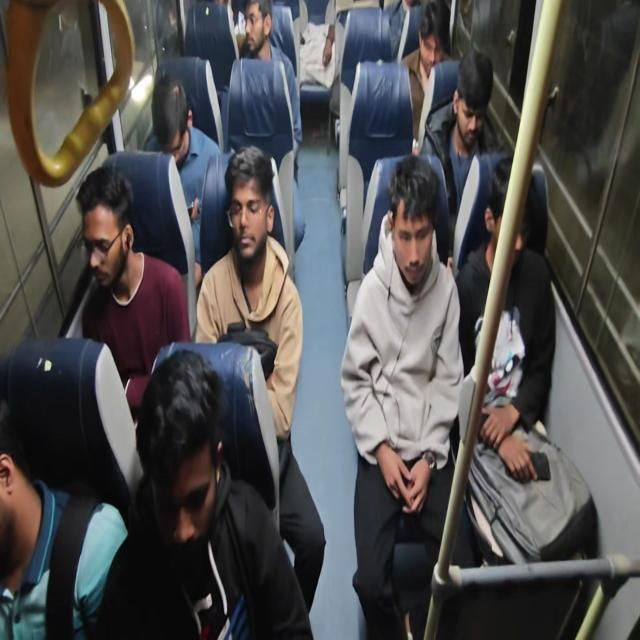person: (125, 361, 257, 640), (0, 367, 58, 630), (223, 150, 285, 306), (289, 1, 359, 136), (65, 184, 151, 292), (391, 166, 454, 292), (151, 60, 208, 166), (500, 182, 552, 281), (442, 61, 492, 155), (248, 2, 278, 52), (425, 8, 451, 60)
